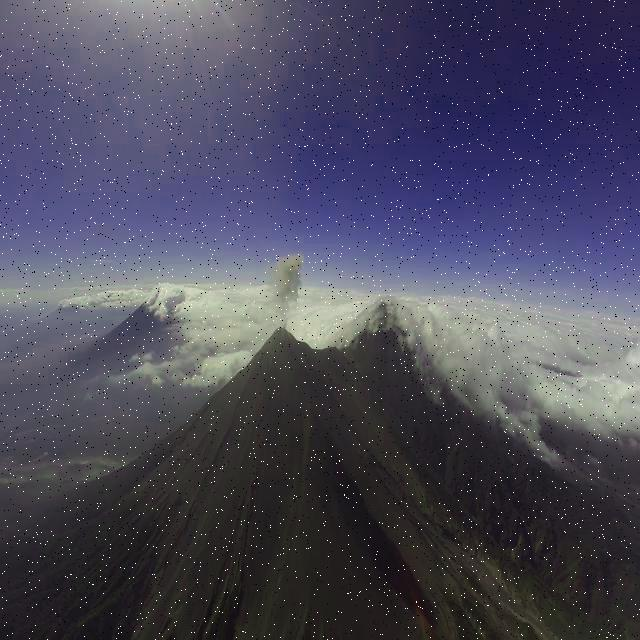Plume: (268, 252, 302, 326)
Summit: (252, 327, 312, 363)
